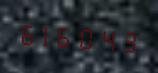four: (98, 21, 117, 55)
one: (37, 17, 56, 51)
six: (17, 15, 36, 50), (58, 18, 77, 52)
three: (118, 22, 137, 57)
zero: (78, 19, 97, 54)
